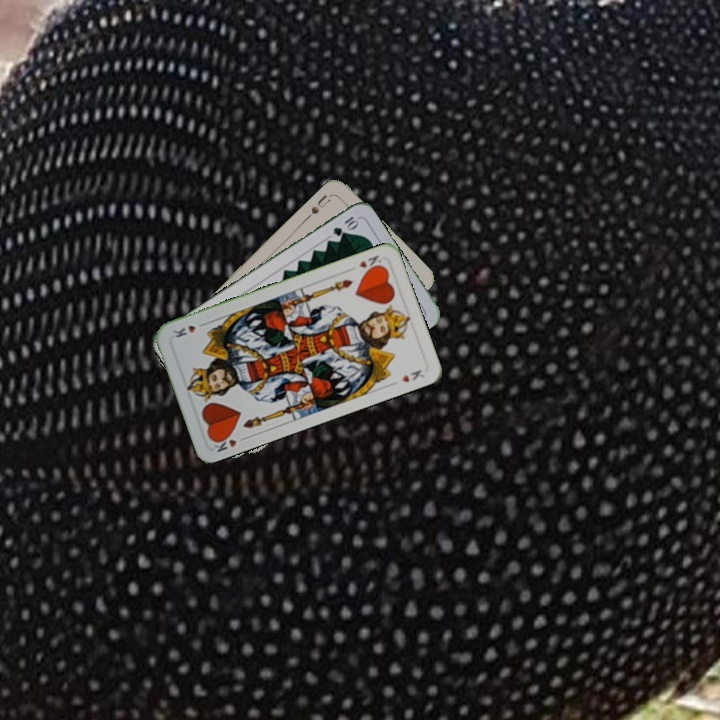G10: (329, 212, 361, 239)
HK: (209, 430, 249, 455), (355, 251, 386, 274)
SU: (307, 190, 336, 217)
